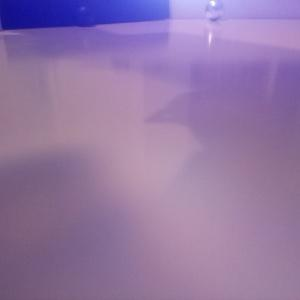alive_ball: (204, 1, 224, 21)
dead_ball: (74, 5, 96, 27)
